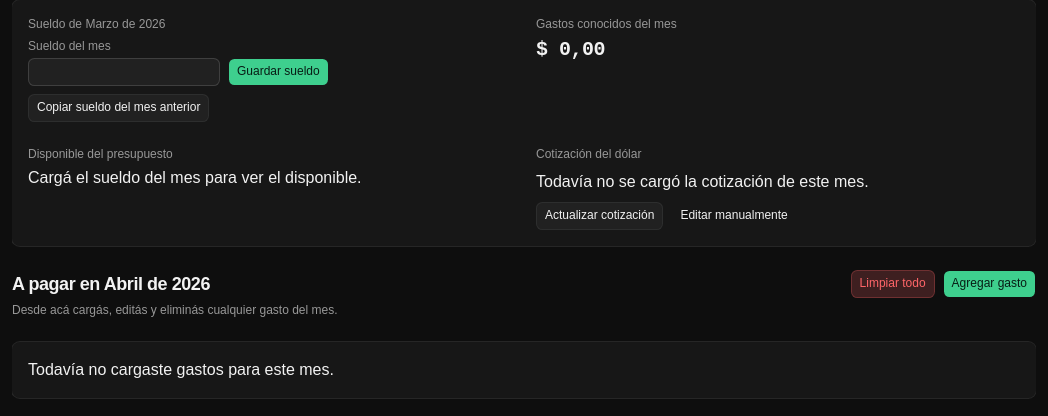
Test: MonthlyBudgetPage › copia el sueldo del mes anterior solo cuando el usuario lo pide
The image size is (1048, 416).
Click the button "Copiar sueldo del mes anterior". click: click(119, 108)
box: [28, 94, 209, 122]
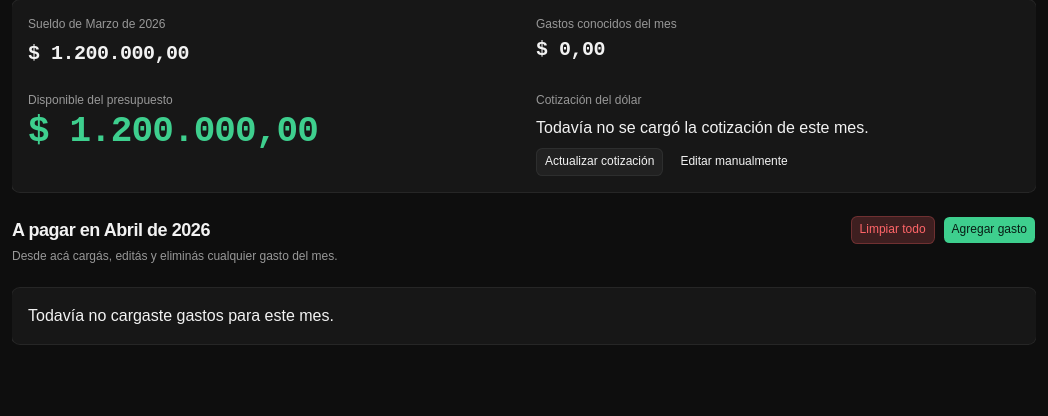
Now the button "$ 1.200.000,00" is shown, box [28, 40, 189, 68]
